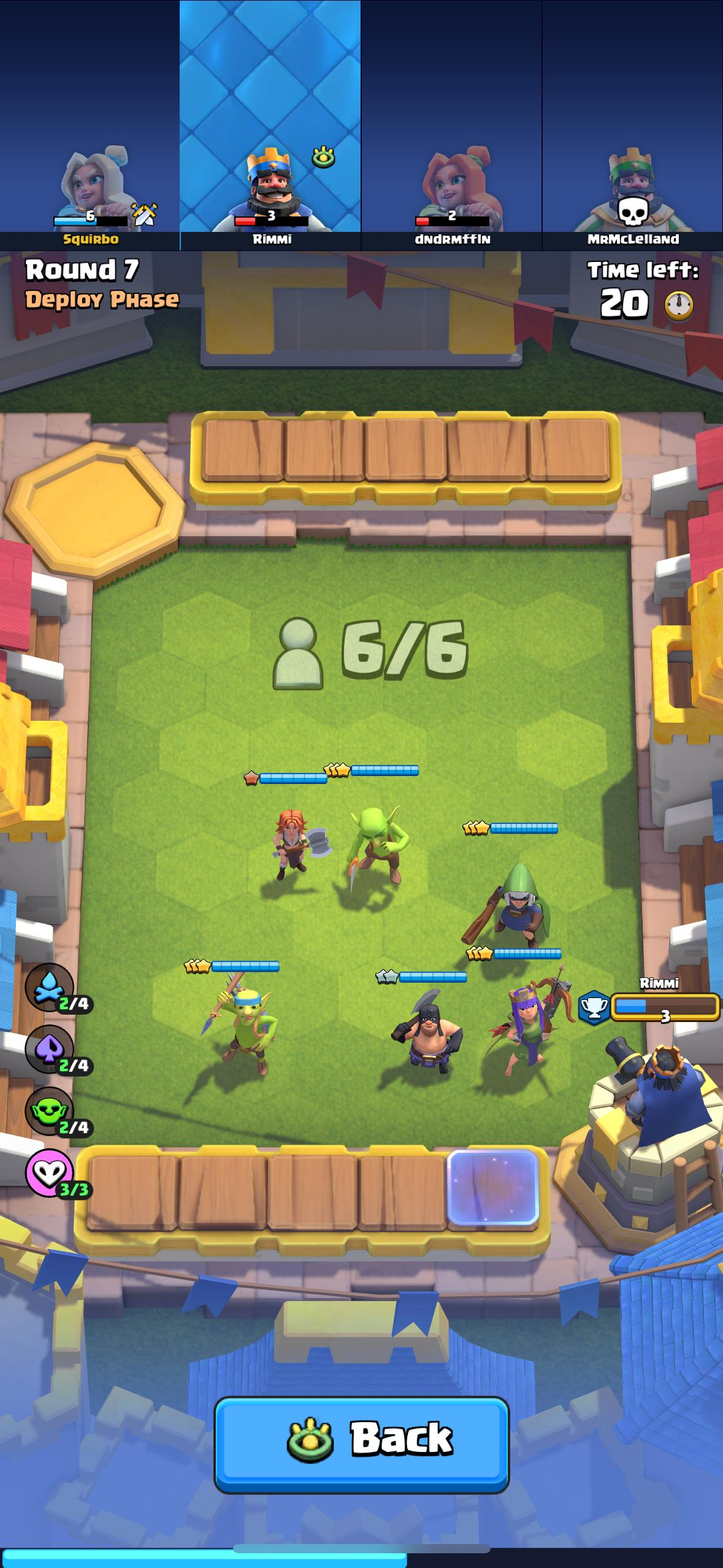bandit: (478, 847, 547, 948)
executioner: (394, 983, 465, 1079)
goblin: (345, 799, 410, 887)
queen: (493, 974, 564, 1078)
spear: (200, 972, 281, 1081)
valkyrie: (270, 799, 325, 884)
